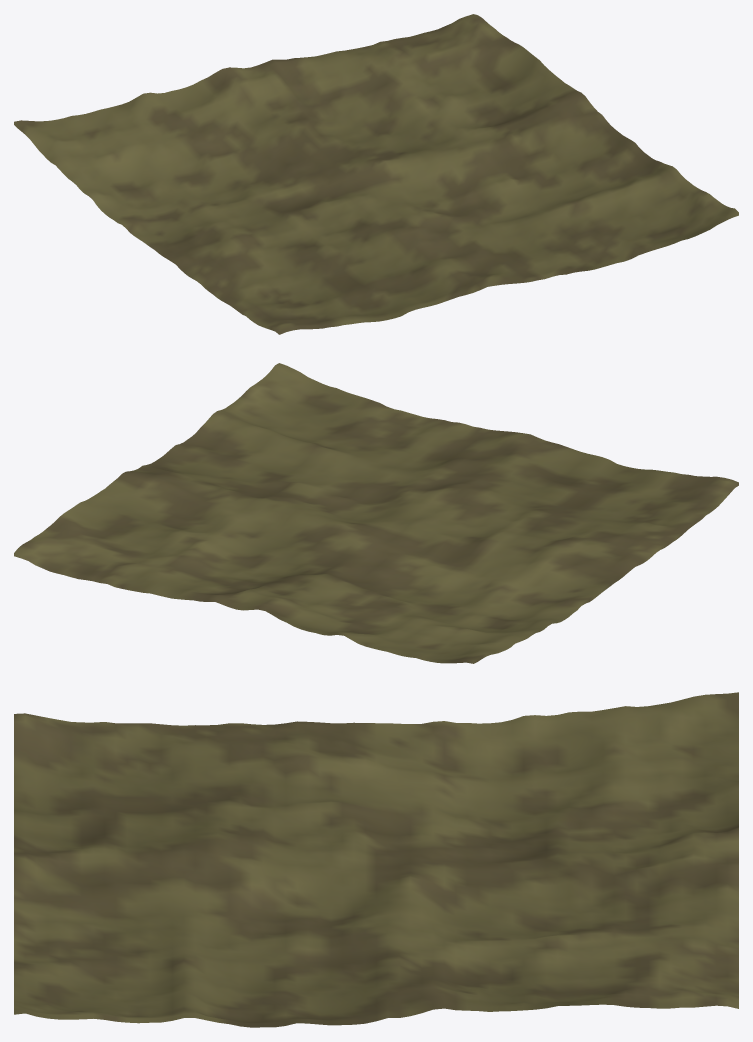
The model's file is land_f_07_01.glb.
The picture shows the model from 3 angles, top to bottom: view 1: azimuth 30°, elevation 25°; view 2: azimuth 150°, elevation 25°; view 3: azimuth 270°, elevation 25°; orthographic projection. The views are drawn at different scales.
Parts seen in each view (by area): view 1: land_f_07_01; view 2: land_f_07_01; view 3: land_f_07_01.
Boxes of the visible parts, x1,y1,x2,y2 form: land_f_07_01: (14,14,738,334); land_f_07_01: (14,363,738,663); land_f_07_01: (14,692,738,1027).
Size of the model in its own units: 3840 by 276 by 3840.
